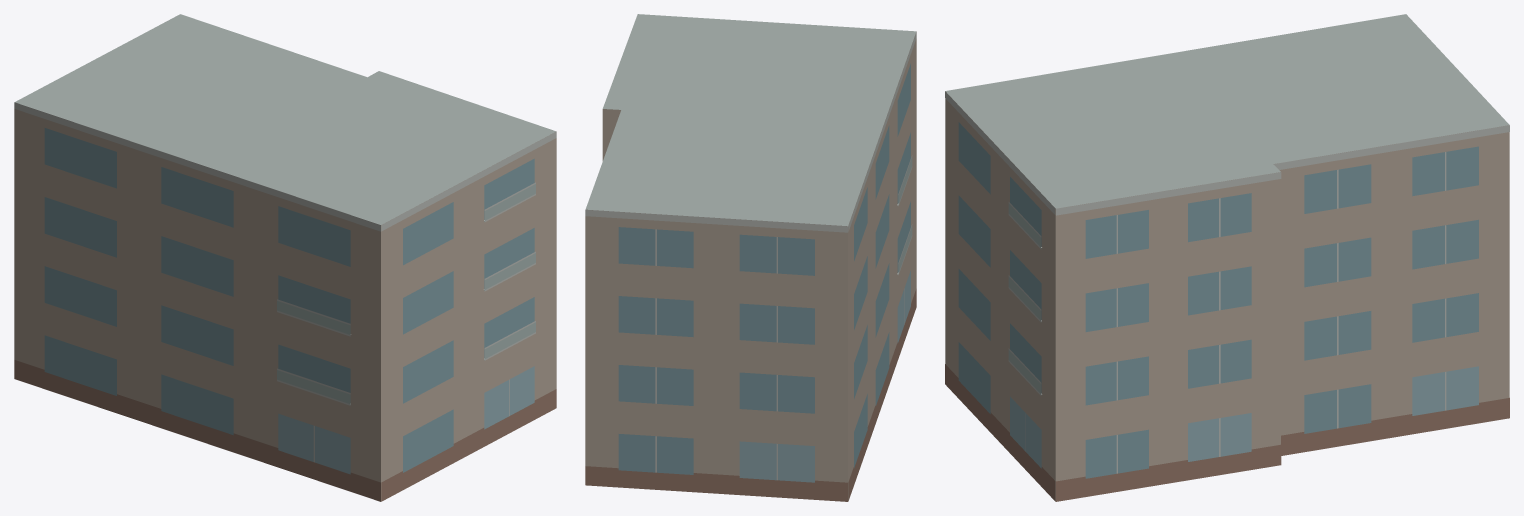
File: survey-upis-32894163.glb
The picture shows the model from 3 angles, left to right: view 1: azimuth 30°, elevation 25°; view 2: azimuth 150°, elevation 25°; view 3: azimuth 270°, elevation 25°; orthographic projection. The views are drawn at different scales.
Parts seen in each view (by area): view 1: survey-upis-32894163.tmp; view 2: survey-upis-32894163.tmp; view 3: survey-upis-32894163.tmp.
Part boxes in pixels (left/top/right/bottom): survey-upis-32894163.tmp: left=14, top=14, right=556, bottom=501; survey-upis-32894163.tmp: left=585, top=14, right=916, bottom=501; survey-upis-32894163.tmp: left=945, top=14, right=1509, bottom=501.
Bounding box in the file's own units: 14.68 × 10.3 × 17.99.
